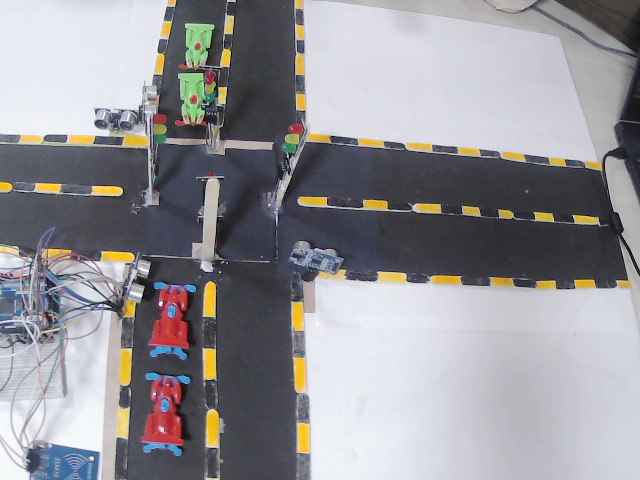car: (144, 364, 188, 456), (153, 275, 196, 366), (176, 62, 216, 135), (179, 20, 214, 73)
traffic_light: (281, 117, 304, 170), (197, 72, 223, 118), (147, 113, 180, 147), (195, 166, 221, 186)
uno_breadboard: (1, 264, 66, 410), (13, 432, 99, 480), (286, 233, 364, 282), (92, 105, 147, 138), (120, 257, 145, 315), (133, 78, 165, 118)
